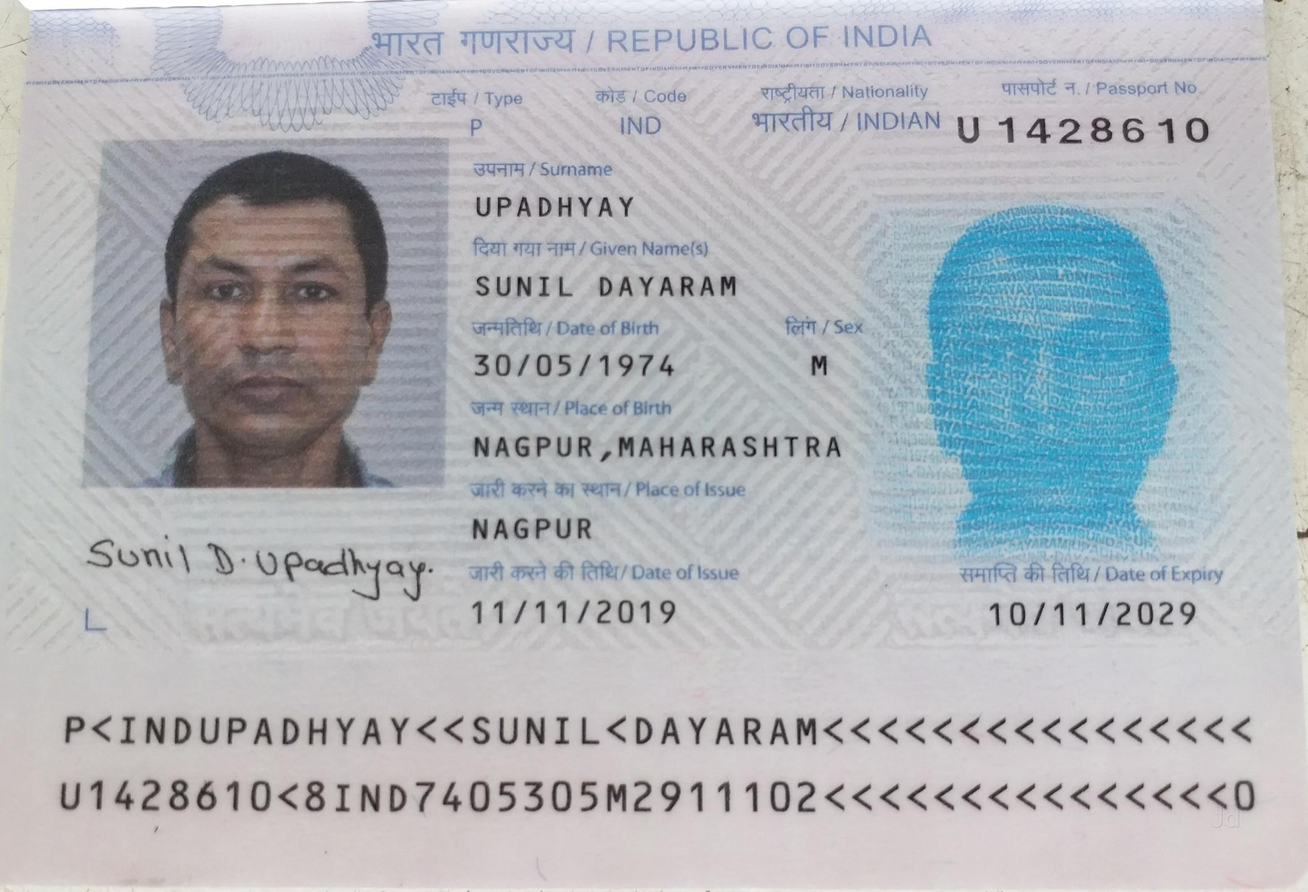DOB: (457, 338, 684, 396)
Surname: (462, 178, 638, 227)
country_code: (605, 107, 682, 149)
date_of_expiry: (975, 592, 1209, 644)
date_of_issue: (468, 584, 687, 637)
details: (39, 683, 1290, 851)
name: (469, 264, 747, 310)
nationality: (742, 102, 946, 153)
passport_no: (945, 101, 1214, 163)
photo: (101, 128, 434, 469)
place_of_birth: (467, 421, 869, 469)
place_of_issue: (454, 503, 608, 551)
sex: (790, 339, 843, 385)
sign: (76, 519, 432, 619)
type: (457, 104, 504, 146)
